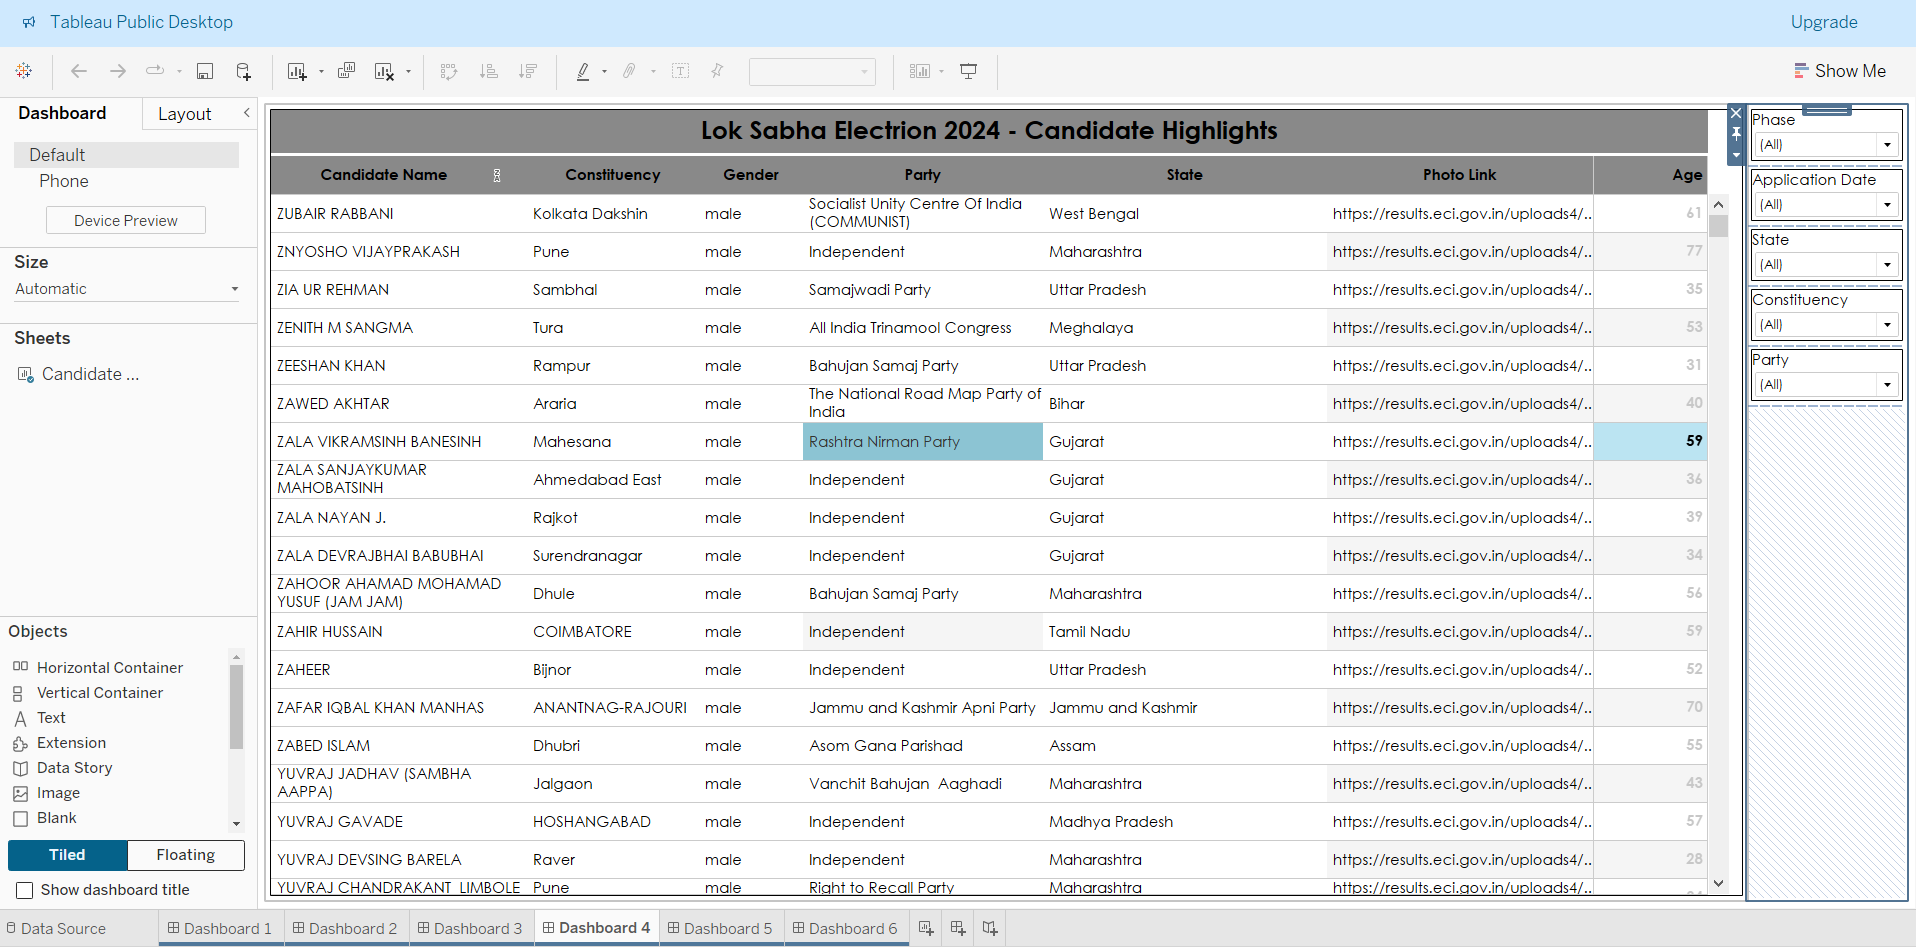

The page's visual inventory and layout, read from the dashboard file:
{"tool":"tableau","page":{"name":"Dashboard 4","canvas":[1000,1000],"units":"permille","ordinal":3},"visuals":[{"type":"worksheet","title":"Candidate Highlights","mark":"Automatic","rows":["Candidate Name","Constituency","Gender","Party","State","Photo Link"],"box":[5,9.9,890.1,980.3]},{"type":"filter","title":"Candidate Highlights","param":"[federated.1t4udp21838psq18mbp35021r6ej].[none:Phase:ok]","box":[895.1,9.9,99.9,74]},{"type":"filter","title":"Candidate Highlights","param":"[federated.1t4udp21838psq18mbp35021r6ej].[none:Application Date:nk]","box":[895.1,83.8,99.9,74]},{"type":"filter","title":"Candidate Highlights","param":"[federated.1t4udp21838psq18mbp35021r6ej].[none:State:nk]","box":[895.1,157.8,99.9,74]},{"type":"filter","title":"Candidate Highlights","param":"[federated.1t4udp21838psq18mbp35021r6ej].[none:Constituency:nk]","box":[895.1,231.8,99.9,74]},{"type":"filter","title":"Candidate Highlights","param":"[federated.1t4udp21838psq18mbp35021r6ej].[none:Party:nk]","box":[895.1,305.8,99.9,74]}]}

Visuals, with their boxes on the dashboard's canvas, which has no fixed pixel size, in thousandths of its width and height (x1, y1, x2, y2). These are canvas units, not pixel positions in the 1916x947 screenshot, which may show the page scaled, cropped or inside an application window:
"Candidate Highlights" worksheet: left=5, top=10, right=895, bottom=990
"Candidate Highlights" filter: left=895, top=10, right=995, bottom=84
"Candidate Highlights" filter: left=895, top=84, right=995, bottom=158
"Candidate Highlights" filter: left=895, top=158, right=995, bottom=232
"Candidate Highlights" filter: left=895, top=232, right=995, bottom=306
"Candidate Highlights" filter: left=895, top=306, right=995, bottom=380
